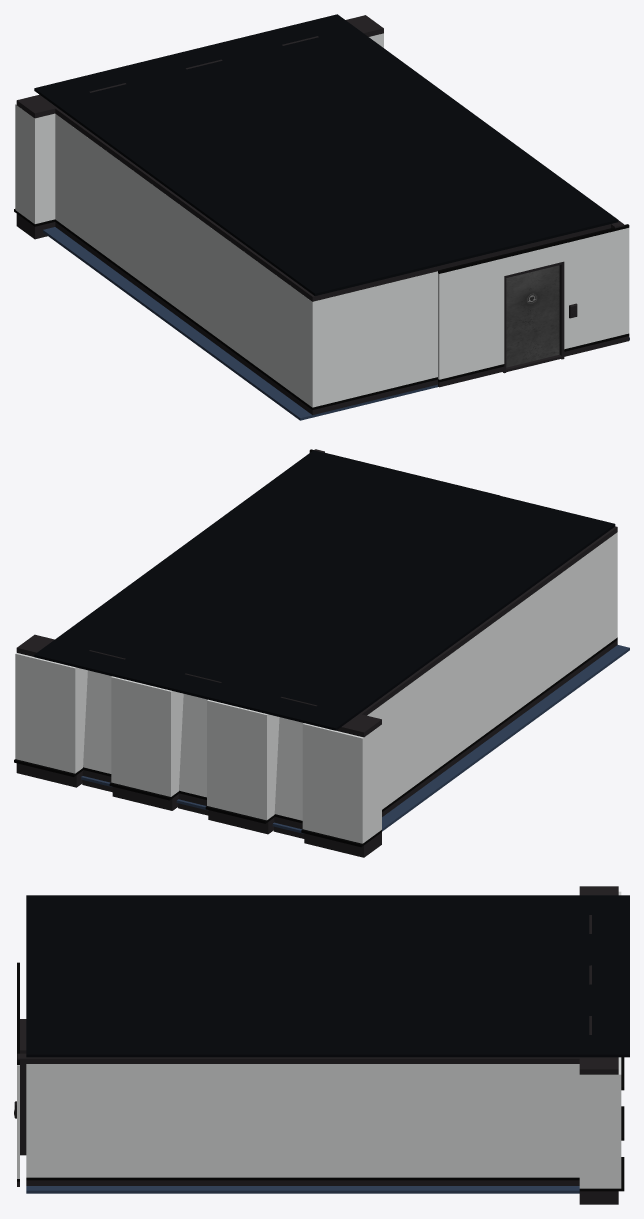
Rendered from SCP Document Room.obj.
The picture shows the model from 3 angles, top to bottom: view 1: azimuth 30°, elevation 25°; view 2: azimuth 150°, elevation 25°; view 3: azimuth 270°, elevation 25°; orthographic projection. The views are drawn at different scales.
Visible parts, largest first — view 1: Part4, Part88, Part19, Part23, Part7, Door2, Part67, Part13, Part87, Part90, Part6, Part18 (+4 smaller); view 2: Part4, Part88, Part67, Part47, Part55, Part59, Part13, Part51, Part63, Part71, Part87, Part90 (+6 smaller); view 3: Part4, Part77, Part47, Part13, Part76, Part79, Part78, Part46, Part73, Part44.
Boxes of the visible parts, left/top/right/bottom form: Part4: left=34, top=14, right=618, bottom=295; Part88: left=55, top=114, right=322, bottom=407; Part19: left=322, top=271, right=437, bottom=405; Part23: left=438, top=258, right=504, bottom=379; Part7: left=564, top=228, right=629, bottom=349; Door2: left=506, top=265, right=559, bottom=367; Part67: left=15, top=104, right=55, bottom=223; Part13: left=43, top=227, right=629, bottom=420; Part87: left=55, top=108, right=322, bottom=301; Part90: left=55, top=222, right=322, bottom=415; Part6: left=504, top=243, right=564, bottom=275; Part18: left=322, top=251, right=499, bottom=299; Part4: left=34, top=450, right=615, bottom=730; Part88: left=367, top=532, right=617, bottom=809; Part67: left=302, top=723, right=381, bottom=843; Part47: left=15, top=653, right=87, bottom=773; Part55: left=111, top=676, right=183, bottom=796; Part59: left=207, top=699, right=279, bottom=820; Part13: left=81, top=645, right=629, bottom=833; Part51: left=83, top=670, right=111, bottom=773; Part63: left=274, top=717, right=303, bottom=820; Part71: left=179, top=694, right=207, bottom=797; Part87: left=359, top=526, right=617, bottom=715; Part90: left=382, top=640, right=617, bottom=816; Part4: left=26, top=895, right=629, bottom=1057; Part77: left=26, top=1064, right=579, bottom=1177; Part47: left=579, top=1057, right=621, bottom=1188; Part13: left=26, top=1186, right=579, bottom=1193; Part76: left=17, top=1053, right=582, bottom=1063; Part79: left=26, top=1180, right=579, bottom=1185; Part78: left=26, top=1177, right=579, bottom=1180; Part46: left=579, top=1057, right=618, bottom=1074; Part73: left=20, top=1049, right=26, bottom=1155; Part44: left=579, top=1191, right=618, bottom=1204.
Size of the model in its own units: 29 by 10.35 by 41.23.
Materials: 16 (6 with a texture image).
